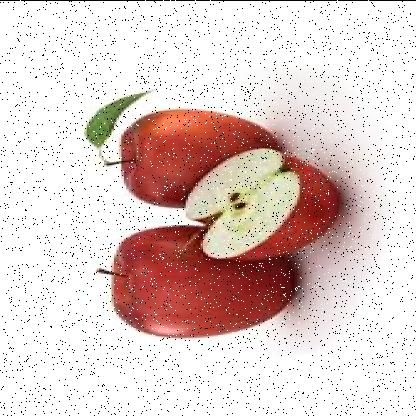apple: (102, 223, 304, 340), (108, 108, 282, 207)
damaged_apple: (183, 143, 347, 264)
